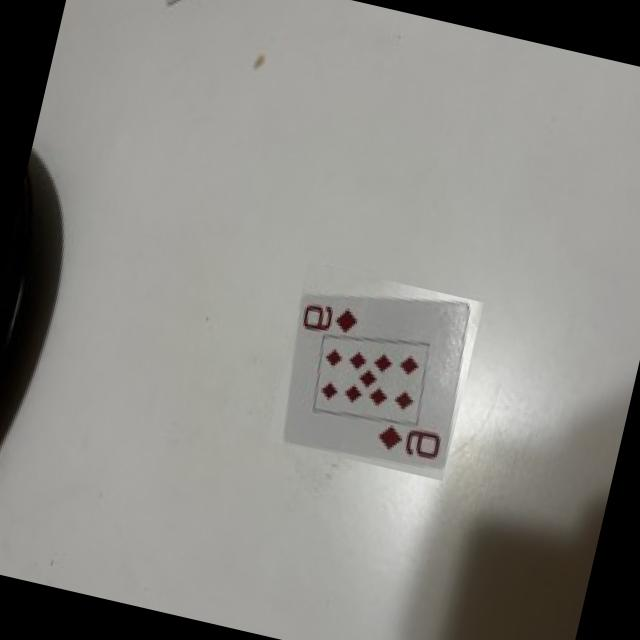9 of diamonds: (284, 295, 474, 471)
